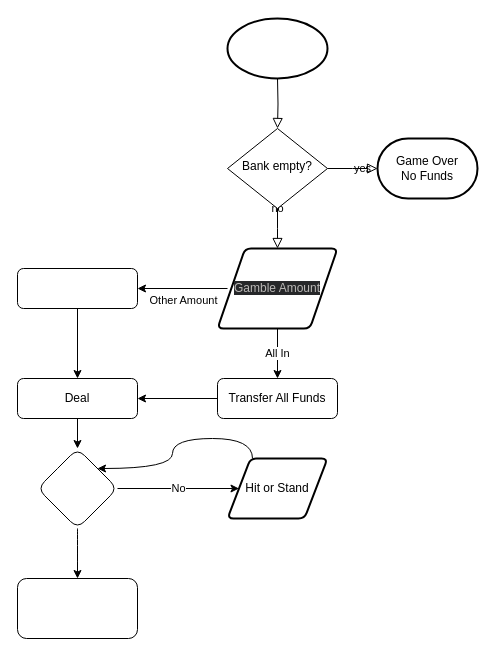
This 496x656 diagram has some shape labels left out. Each missing label, with the centre of its shape:
"Bust?" goes at pixel 77 488.
"Play Black Jack" goes at pixel 277 48.
"Transfer Amount" goes at pixel 77 288.
